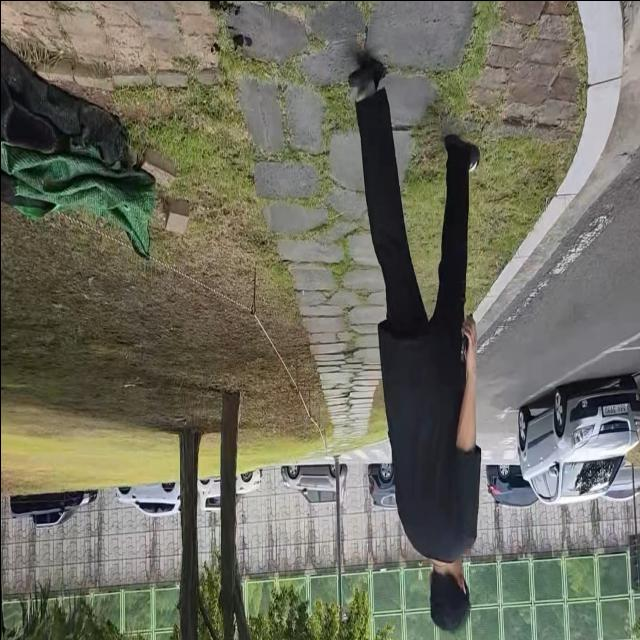obstacle: (338, 49, 487, 636), (506, 364, 640, 517)
road: (482, 0, 640, 464)
